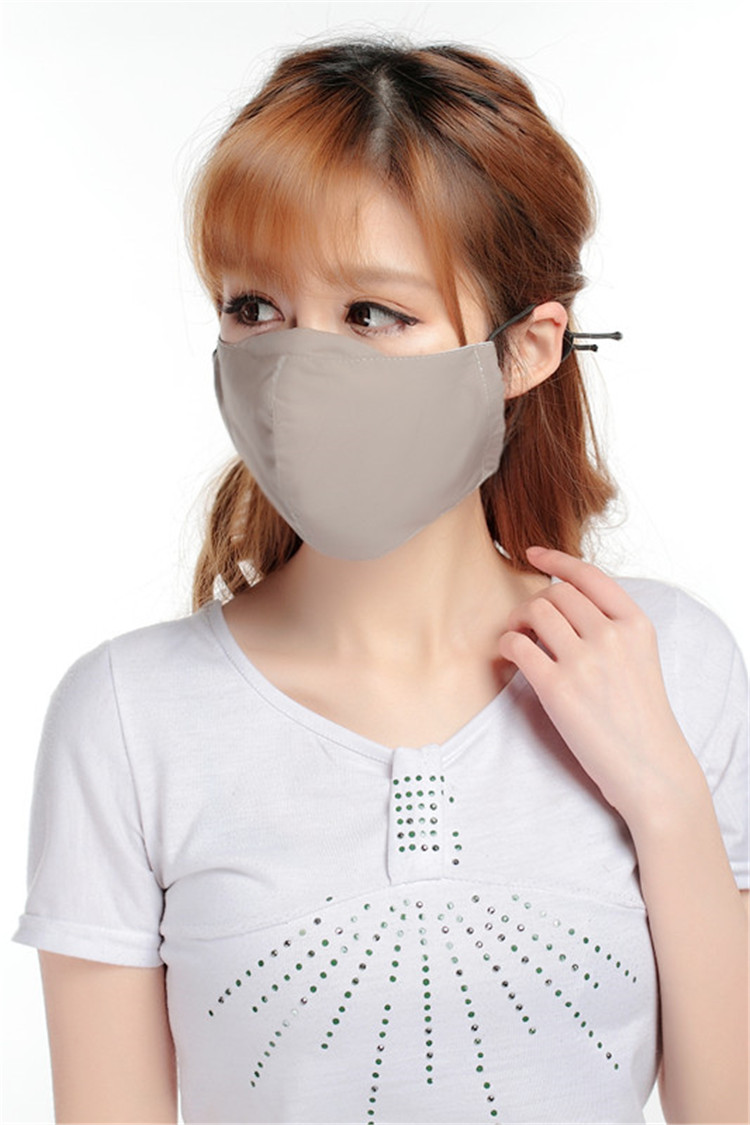face_mask: (218, 109, 479, 553)
